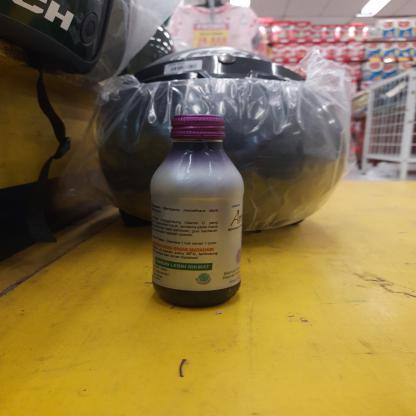glass: (146, 111, 248, 309)
